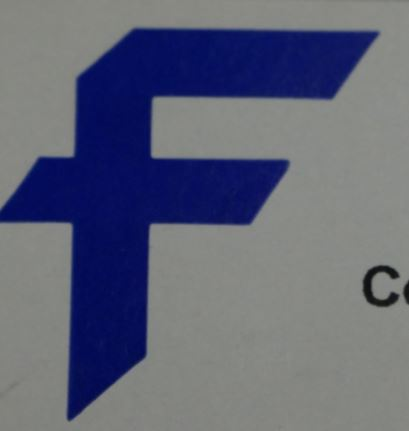Fisher: (1, 22, 385, 423)
